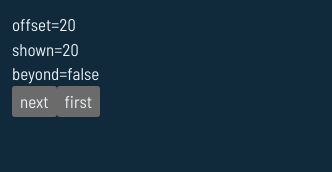
Scenario: usePaging › keeps the offset of the rows on screen while the next page is pending
Later steps or results of the test are not shown.
Expected: the text "shown=20" is shown, [12,39,79,59]
Click the button "next". click: (34, 101)
box: [12,86,57,116]
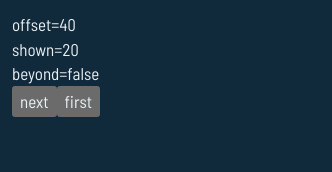
Expected: the text "shown=20" is shown, [12,39,79,59]
Expected: the text "offset=40" is shown, [12,14,76,34]
